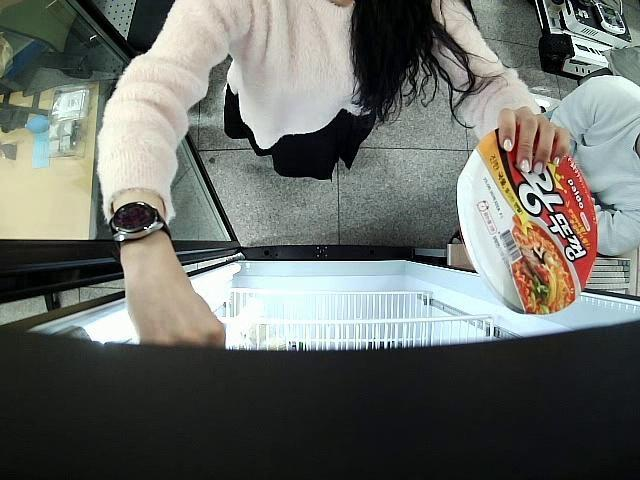10_wangTtukkeong: (456, 126, 600, 314)
